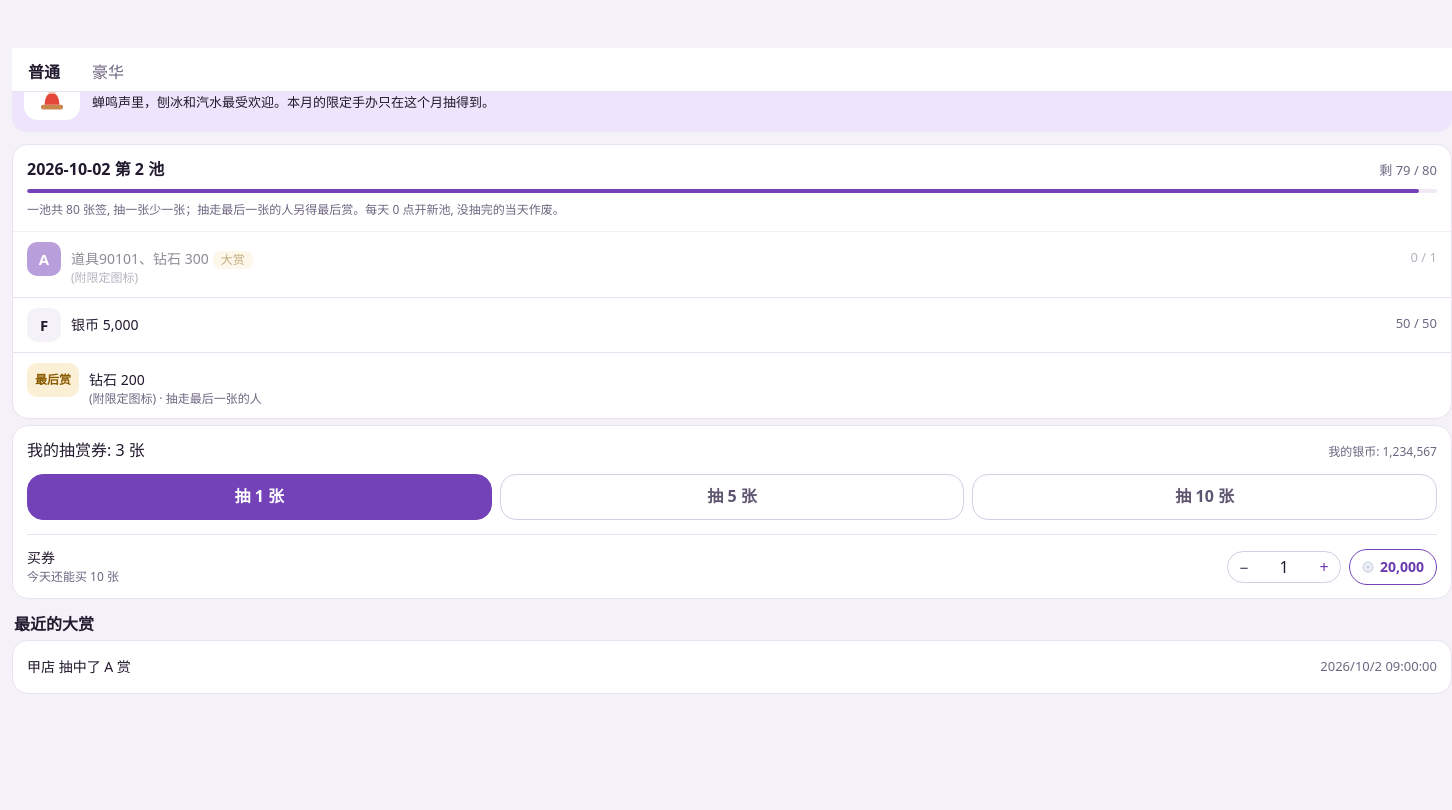
Test: backlog 一番赏：页面 › 切到豪华（240-2）：请求带 line=deluxe，网址记下 line；票数写“豪华签券”；没有月度主题
Click the tab with test id "kj-line-deluxe": (108, 72) [76, 52, 140, 92]
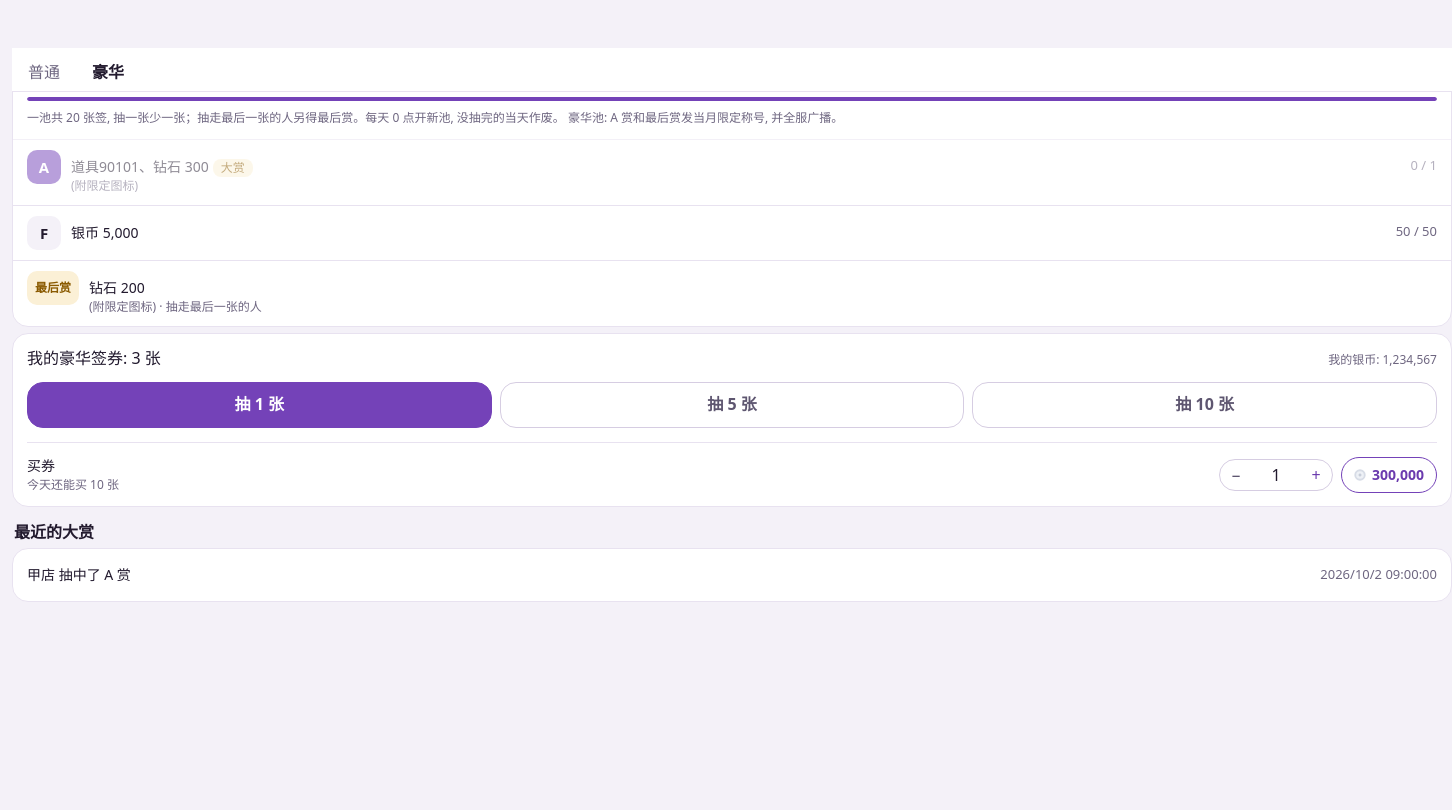
Expected: the text with test id "kj-tickets" shows "豪华签券", [27, 347, 161, 369]
